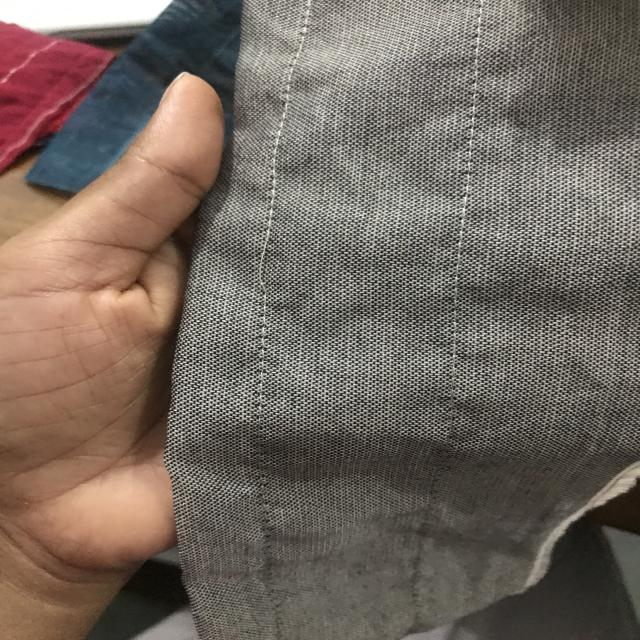skip: (253, 208, 283, 309)
